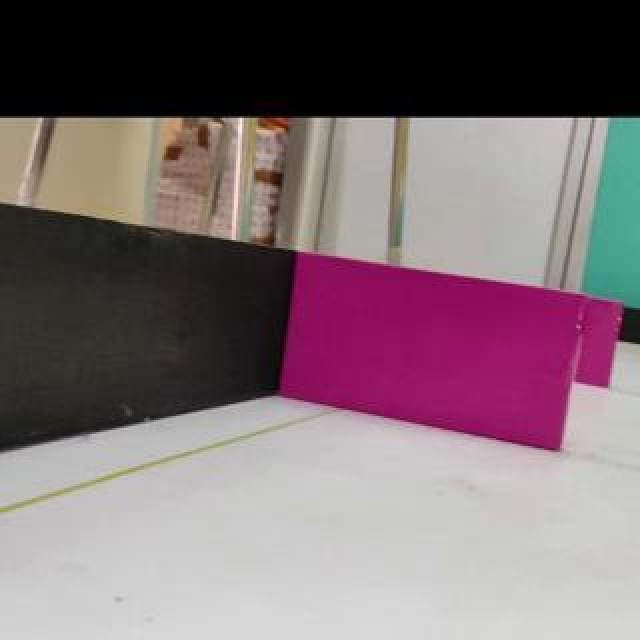xparking: (281, 256, 586, 453), (574, 299, 623, 387)
